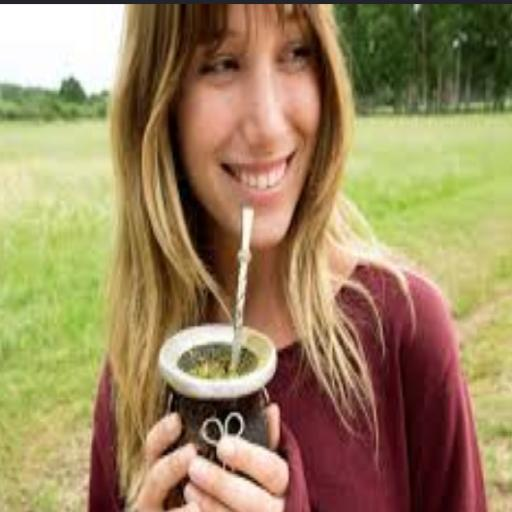mate: (159, 323, 276, 462)
